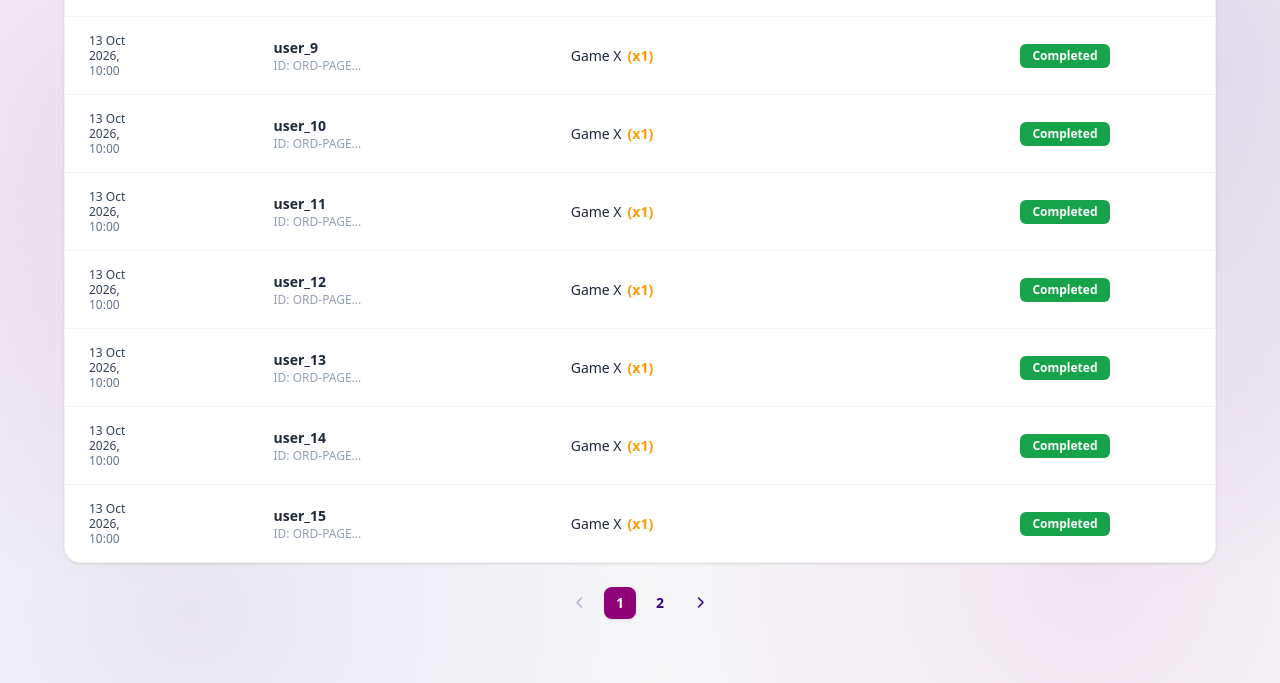
Test: AdminSaleHistoryView › paginates sales list at 15 items per page
(page scrolled)
Check: the row with test id "sale-row-ORD-PAGE-15" is shown, box [65,484,1215,562]
Check: the navigation bar with test id "sale-history-pagination" is shown, box [564,587,716,619]
Click the button "2": (660, 603) [644,587,676,619]
(page scrolled)
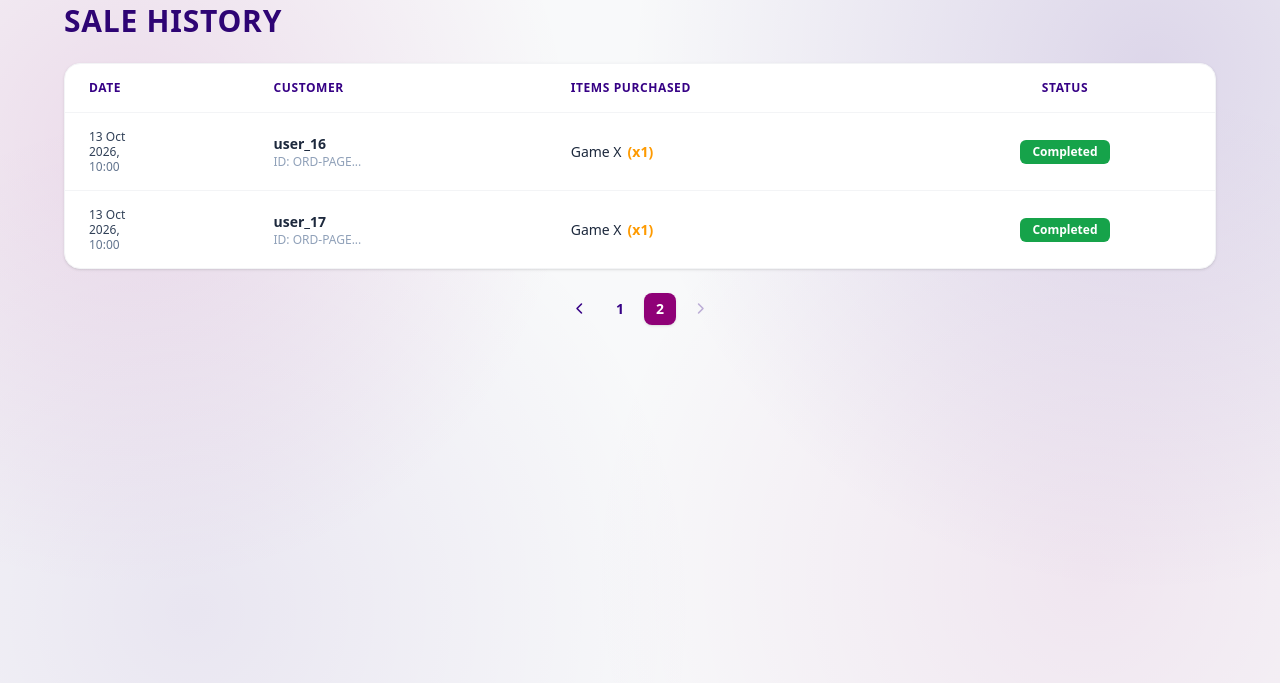
Check: the row with test id "sale-row-ORD-PAGE-16" is shown, box [65,112,1215,190]
Check: the row with test id "sale-row-ORD-PAGE-17" is shown, box [65,190,1215,268]
